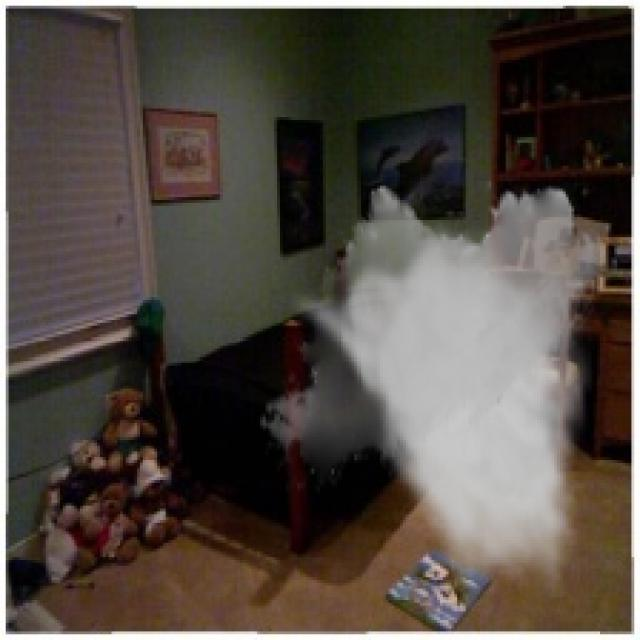smoke: (257, 174, 620, 597)
